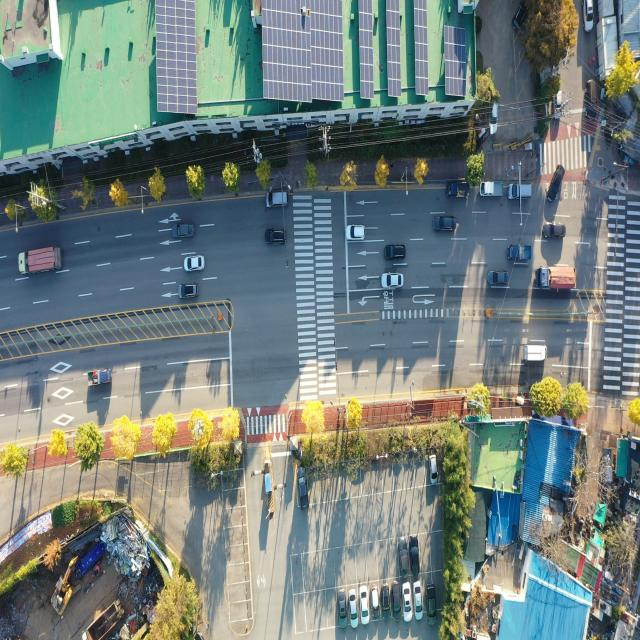car: (510, 0, 532, 42), (548, 163, 566, 204), (586, 80, 598, 121), (509, 182, 534, 200), (297, 463, 307, 507), (432, 215, 456, 233), (488, 98, 499, 136), (542, 221, 565, 239), (411, 533, 421, 573), (359, 585, 369, 624), (414, 582, 424, 620), (488, 270, 509, 288), (384, 244, 406, 261), (382, 273, 404, 290), (267, 190, 289, 207), (266, 230, 288, 247), (346, 226, 366, 244), (339, 593, 349, 629), (428, 584, 437, 624), (174, 222, 195, 238), (349, 590, 358, 627), (184, 256, 204, 272), (178, 283, 198, 299), (585, 0, 595, 32), (554, 88, 564, 120), (402, 583, 410, 621), (399, 536, 407, 574), (369, 588, 378, 618), (392, 584, 400, 617), (382, 585, 391, 613), (429, 456, 438, 484)
medium_truck: (16, 248, 61, 278), (538, 266, 578, 291)
small_truck: (87, 368, 113, 388), (602, 448, 614, 487), (526, 344, 550, 363), (480, 180, 505, 198), (508, 244, 532, 262), (447, 181, 470, 199)
